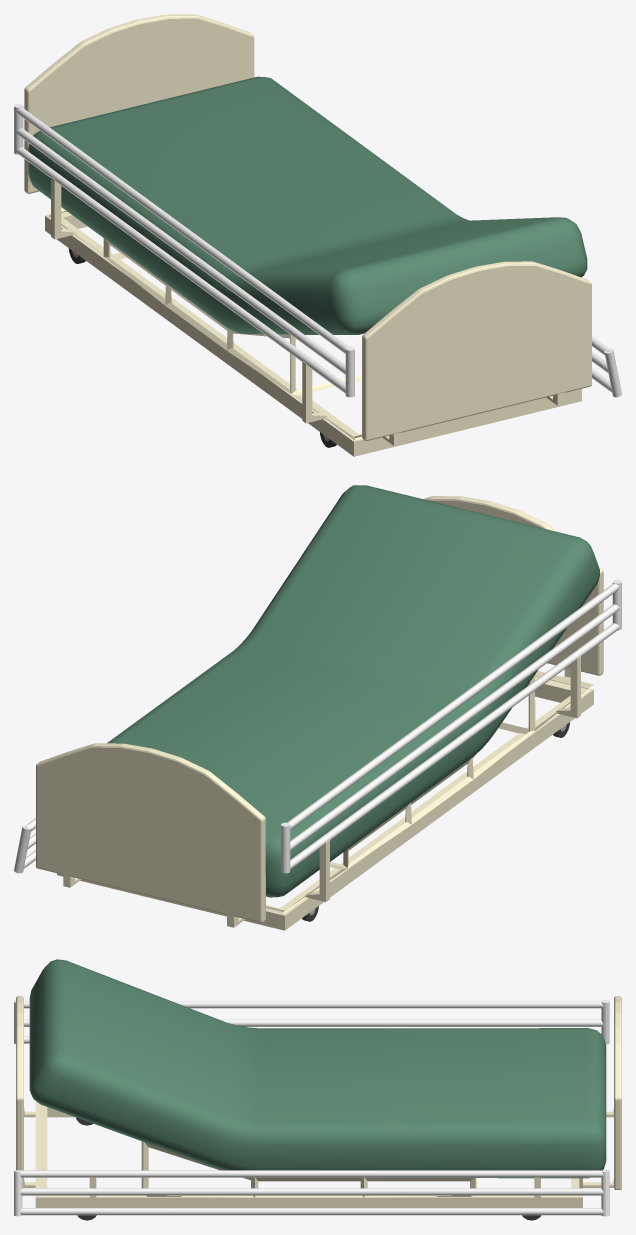
Rendered from uploads_files_2821174_HospitalBed.fbx.
3 views of the same model, one above another, from view 1: azimuth 30°, elevation 25°; view 2: azimuth 150°, elevation 25°; view 3: azimuth 270°, elevation 25° (orthographic). The views are drawn at different scales.
Visible parts, largest first — view 1: HospitalBed, HospitalBedEndPlate2, HospitalBedEndPlate1, HospitalBedLeftSideGuard, HospitalBedBottomFrame, HospitalBedBottomFrame2, HospitalBedGuardHolders, HospitalBedRightSideGuard; view 2: HospitalBed, HospitalBedEndPlate1, HospitalBedLeftSideGuard, HospitalBedBottomFrame, HospitalBedEndPlate2, HospitalBedBottomFrame2, HospitalBedGuardHolders, HospitalBedRightSideGuard; view 3: HospitalBed, HospitalBedRightSideGuard, HospitalBedBottomFrame, HospitalBedLeftSideGuard, HospitalBedBottomFrame2, HospitalBedEndPlate1, HospitalBedEndPlate2.
Boxes of the visible parts, x1,y1,x2,y2 form: HospitalBed: [28, 76, 587, 334]; HospitalBedEndPlate2: [362, 261, 591, 440]; HospitalBedEndPlate1: [24, 14, 254, 193]; HospitalBedLeftSideGuard: [14, 104, 354, 397]; HospitalBedBottomFrame: [45, 211, 581, 456]; HospitalBedBottomFrame2: [45, 207, 362, 440]; HospitalBedGuardHolders: [51, 177, 326, 423]; HospitalBedRightSideGuard: [592, 336, 621, 397]; HospitalBed: [107, 485, 599, 897]; HospitalBedEndPlate1: [36, 743, 265, 922]; HospitalBedLeftSideGuard: [281, 580, 621, 873]; HospitalBedBottomFrame: [57, 676, 593, 930]; HospitalBedEndPlate2: [423, 496, 603, 675]; HospitalBedBottomFrame2: [266, 671, 593, 914]; HospitalBedGuardHolders: [305, 656, 580, 901]; HospitalBedRightSideGuard: [14, 818, 35, 873]; HospitalBed: [29, 959, 606, 1178]; HospitalBedRightSideGuard: [14, 1170, 609, 1216]; HospitalBedBottomFrame: [35, 1104, 582, 1207]; HospitalBedLeftSideGuard: [14, 999, 609, 1044]; HospitalBedBottomFrame2: [35, 1101, 582, 1197]; HospitalBedEndPlate1: [614, 996, 621, 1189]; HospitalBedEndPlate2: [16, 996, 23, 1188].
Bounding box in the file's own units: 221 × 143 × 478.
